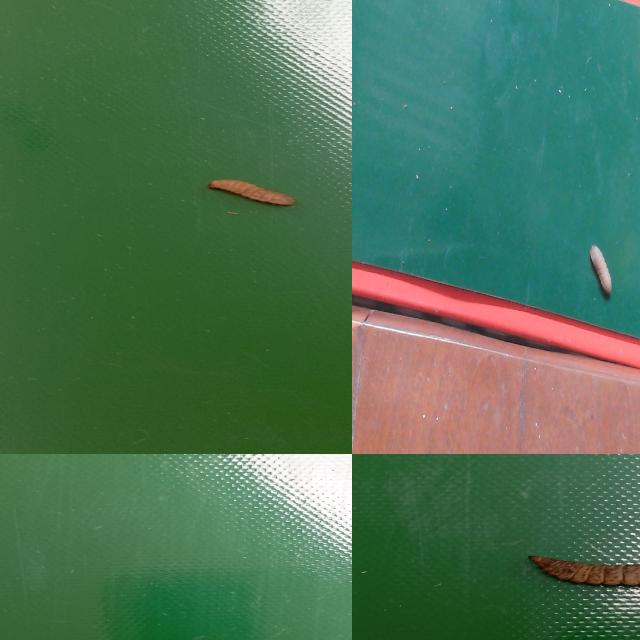Maggot: (527, 557, 640, 591), (208, 180, 296, 209), (589, 246, 615, 301)
